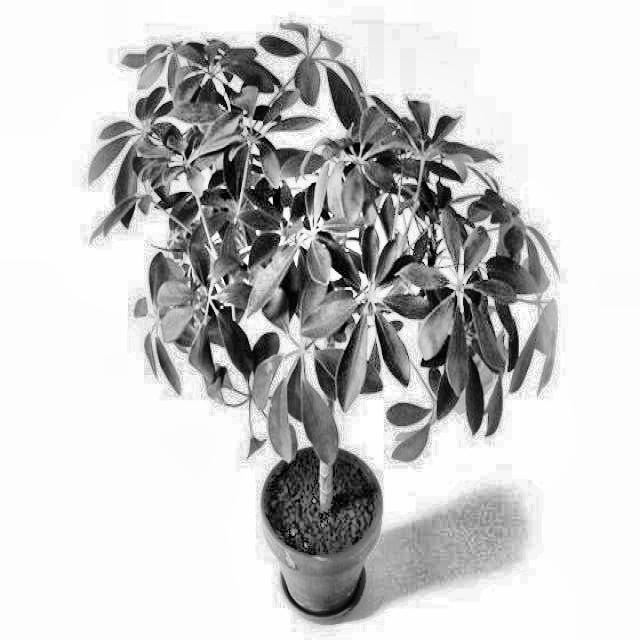plants: (113, 46, 560, 586)
